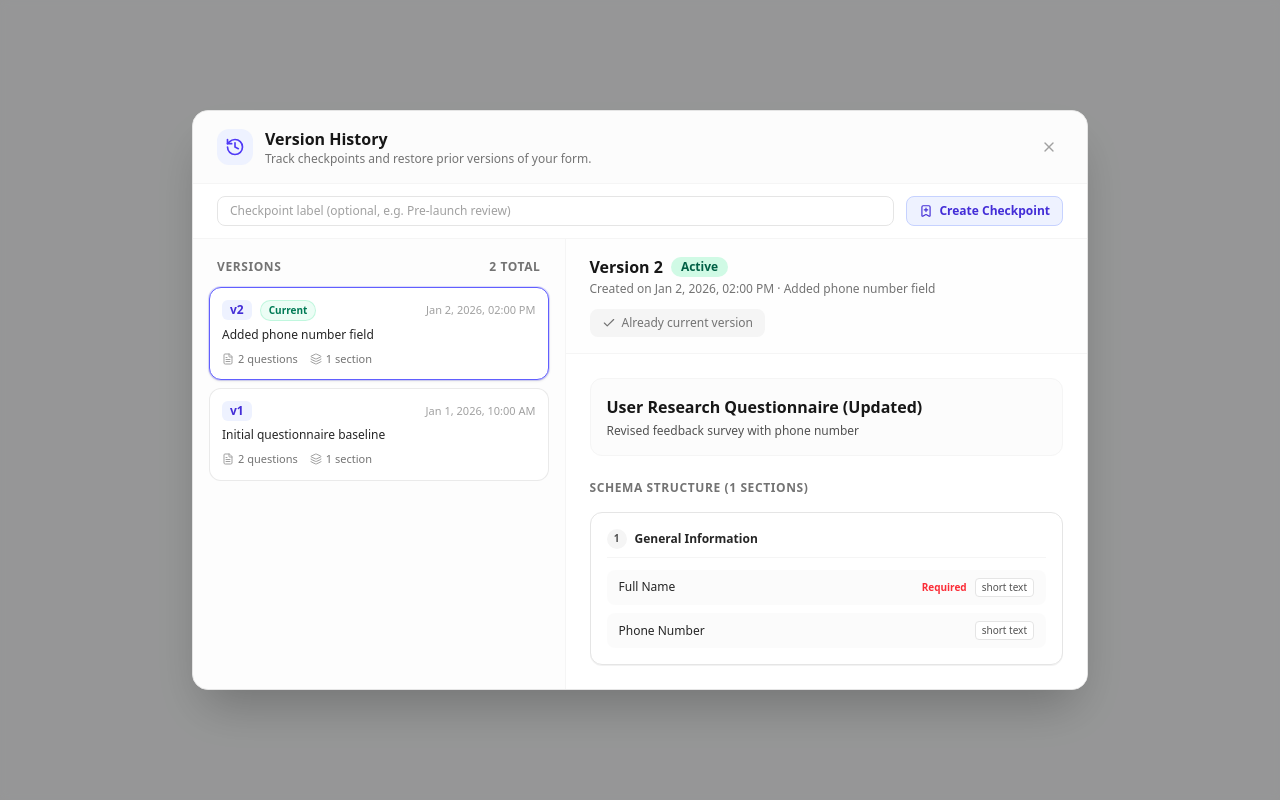
Field Comments & Version History Feature › VersionHistoryModal › renders list of versions and displays preview of selected version
Check: the text "v2" is shown, box [222,300,252,320]
Check: the text "v1" is shown, box [222,401,252,421]
Note: Click on v1 to view its preview
Click the text "Initial questionnaire baseline" at (304, 435), box [222,426,385,443]
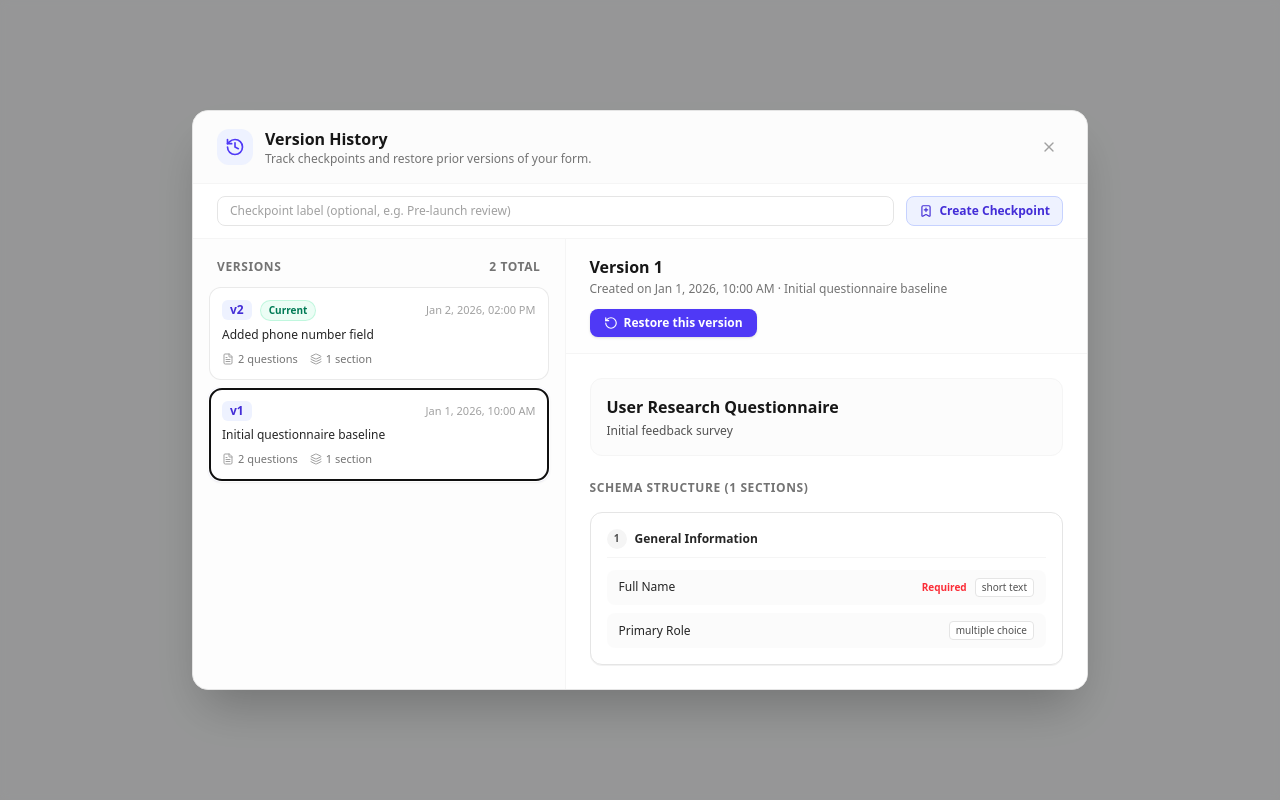
Check: the text "Primary Role" is shown, box [618,623,691,639]
Check: the heading "Version 1" is shown, box [590,255,663,279]
